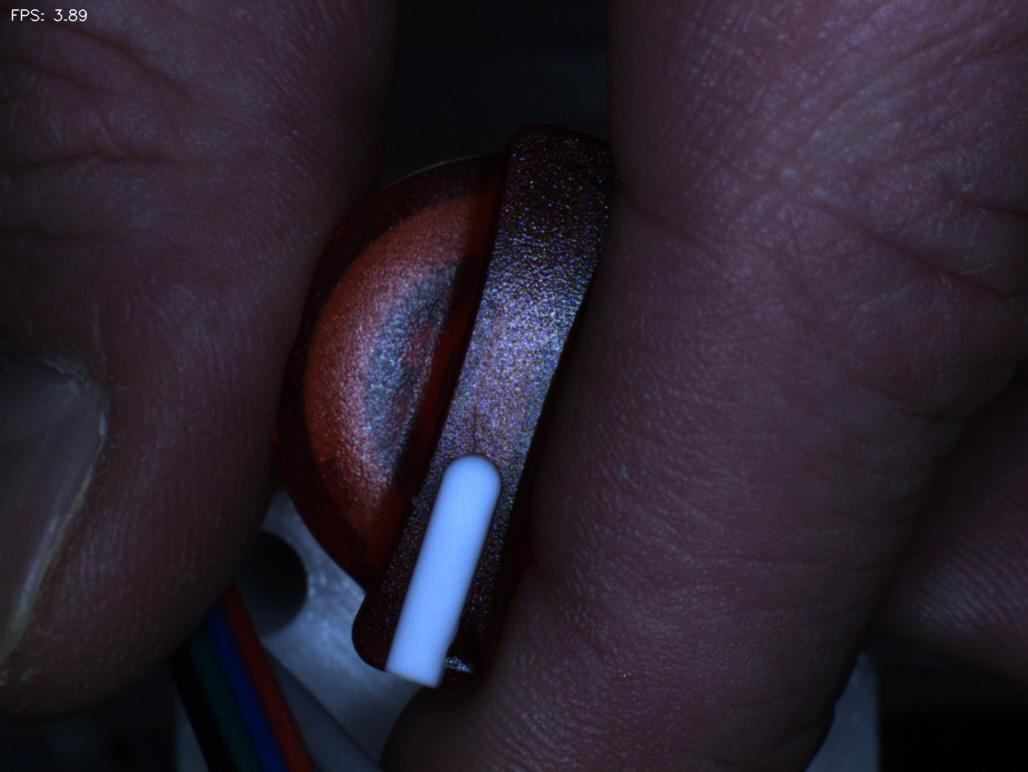Choc: (429, 611, 511, 706)
